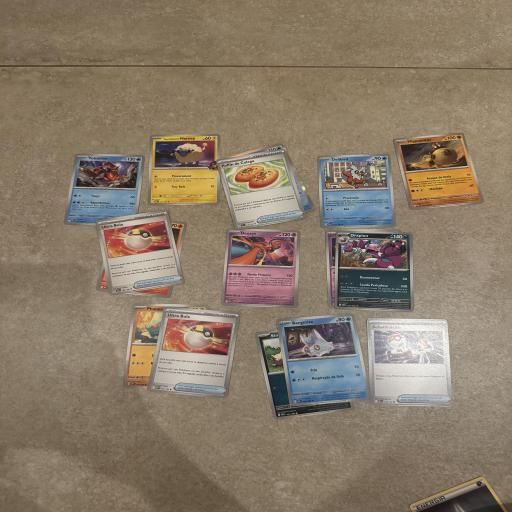card: (275, 305, 373, 413), (393, 122, 484, 220), (217, 142, 307, 239), (147, 306, 240, 398), (367, 314, 454, 411), (96, 208, 186, 297), (64, 145, 146, 234), (219, 226, 302, 309), (335, 231, 416, 312), (317, 154, 396, 230), (147, 133, 220, 205)
